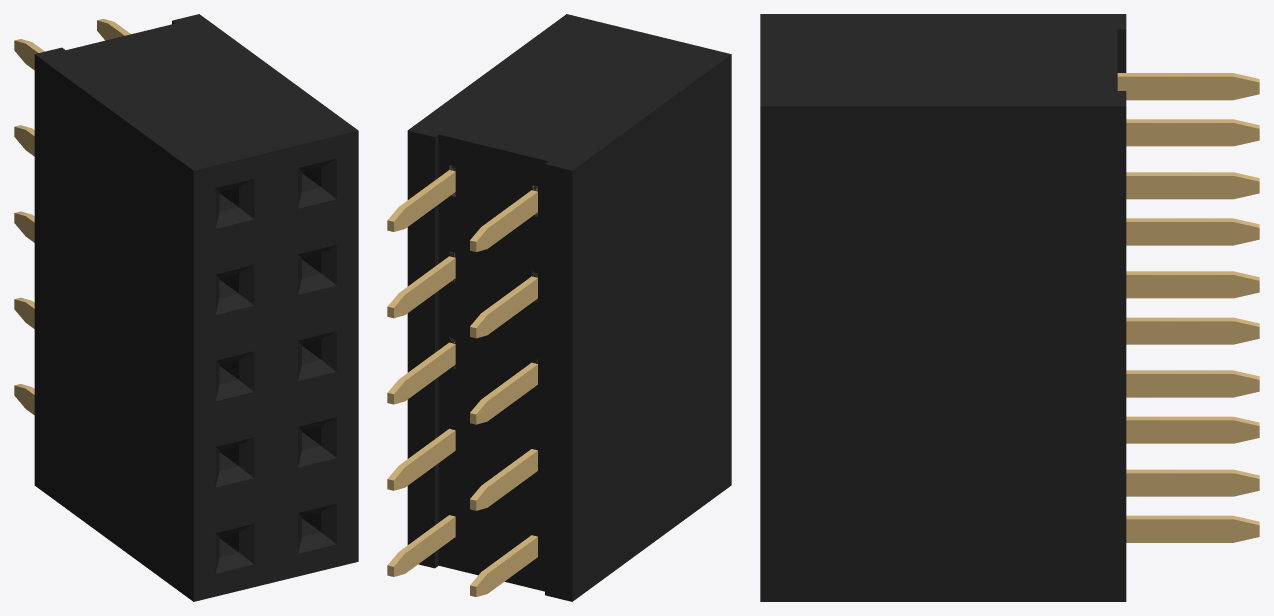
Rendered from socket-2x05.glb.
3 renders of one model, left to right at view 1: azimuth 30°, elevation 25°; view 2: azimuth 150°, elevation 25°; view 3: azimuth 270°, elevation 25°, orthographic. The views are drawn at different scales.
Parts seen in each view (by area): view 1: IC-BODY-EPOXY-04, PIN-02; view 2: IC-BODY-EPOXY-04, PIN-02 (×9); view 3: IC-BODY-EPOXY-04, PIN-02 (×9).
Part boxes in pixels (left/top/right/bottom): IC-BODY-EPOXY-04: left=34, top=14, right=358, bottom=601; PIN-02: left=14, top=19, right=130, bottom=415; IC-BODY-EPOXY-04: left=407, top=14, right=731, bottom=601; PIN-02 (×9): left=387, top=165, right=537, bottom=596; IC-BODY-EPOXY-04: left=760, top=14, right=1126, bottom=601; PIN-02 (×9): left=1117, top=73, right=1259, bottom=542.
Size of the model in its own units: 5.08 by 12.7 by 11.6.
